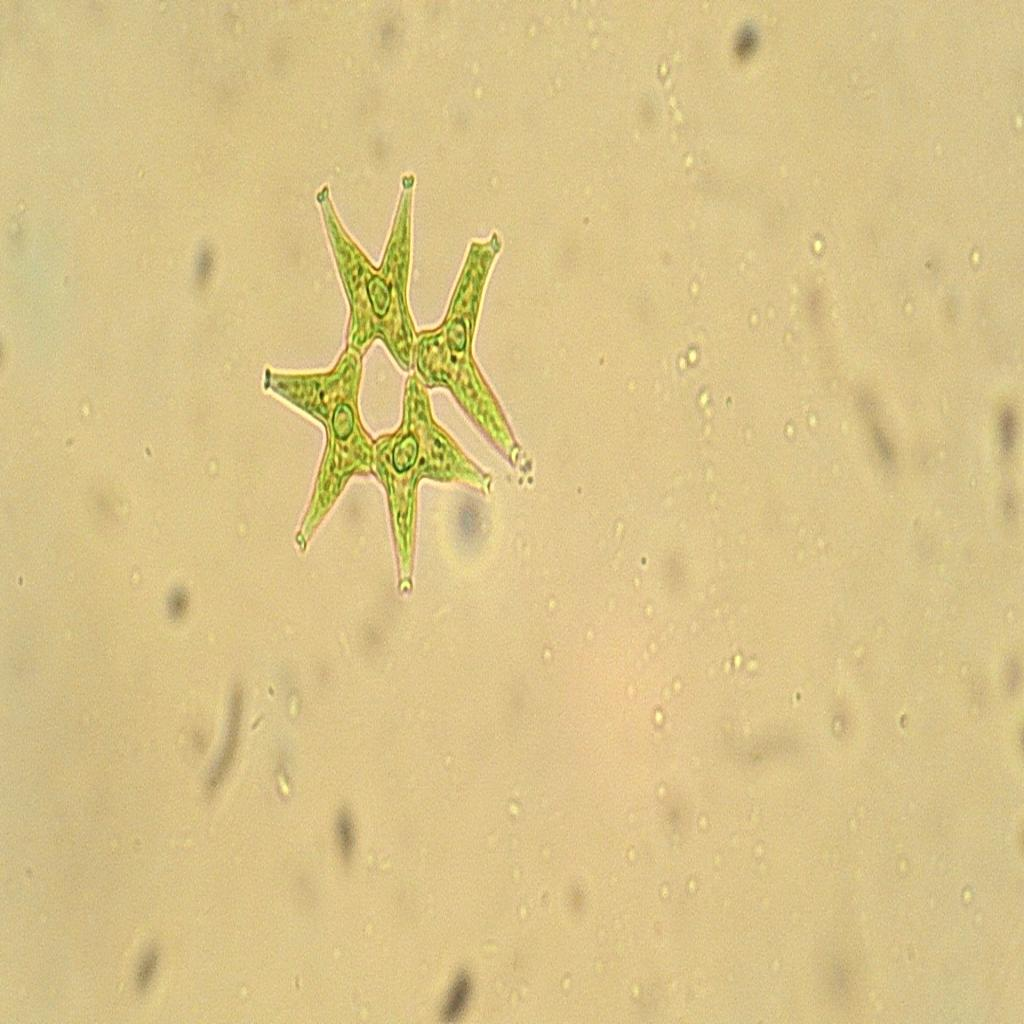Pediastrum_CT: (238, 144, 556, 610)
